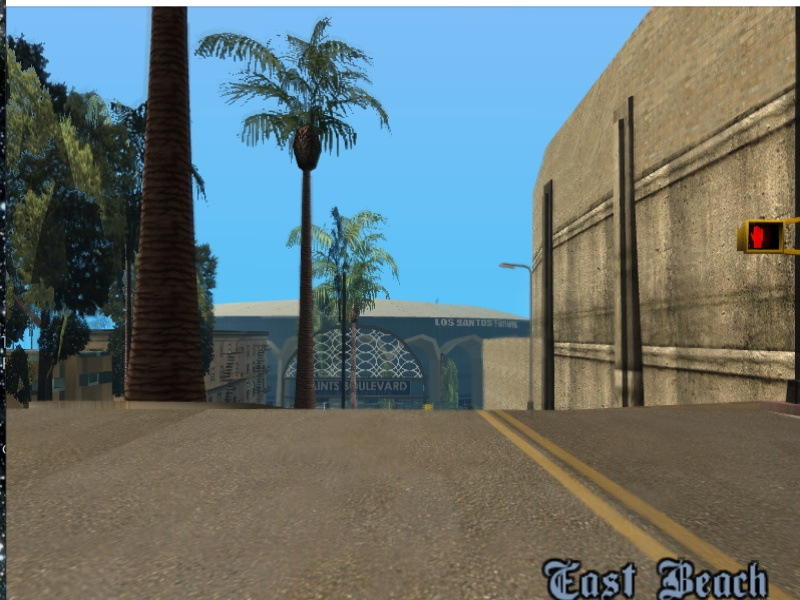tree: (118, 23, 213, 404), (293, 163, 325, 413)
